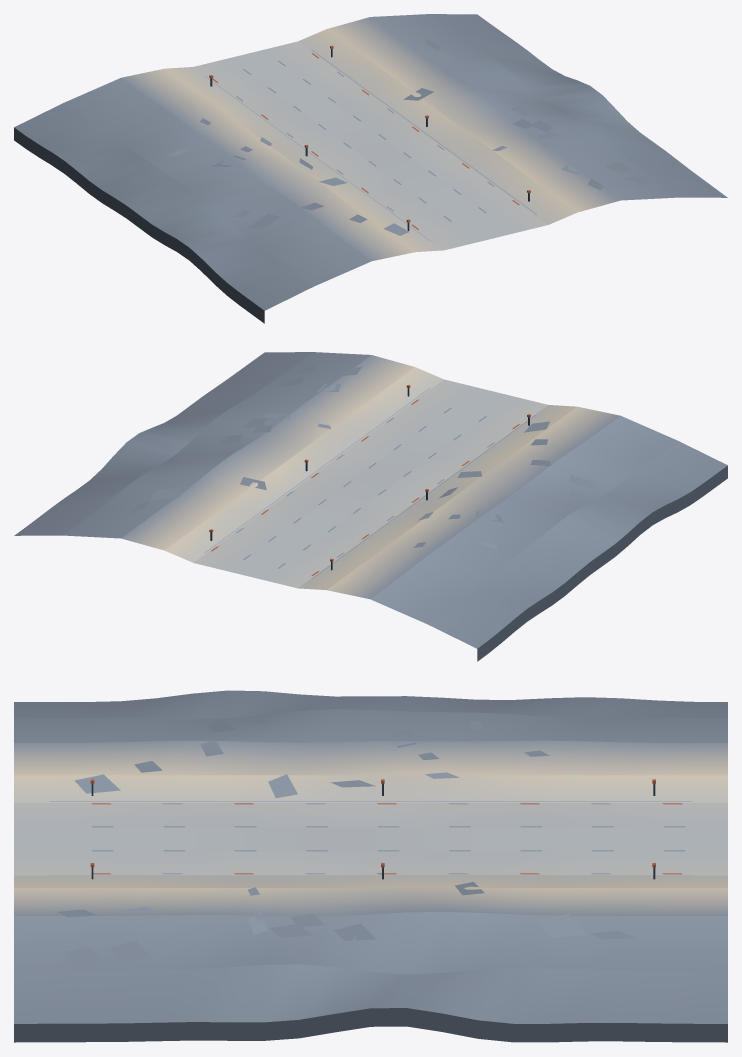
Rendered from 01-straight.glb.
3 renders of one model, top to bottom at view 1: azimuth 30°, elevation 25°; view 2: azimuth 150°, elevation 25°; view 3: azimuth 270°, elevation 25°, orthographic. The views are drawn at different scales.
Visible parts, largest first — view 1: straight; view 2: straight; view 3: straight.
Boxes of the visible parts, x1=… form: straight: x1=14, y1=14, x2=727, y2=323; straight: x1=14, y1=352, x2=727, y2=661; straight: x1=14, y1=690, x2=727, y2=1042.
Bounding box in the file's own units: 32 × 2.76 × 30.
